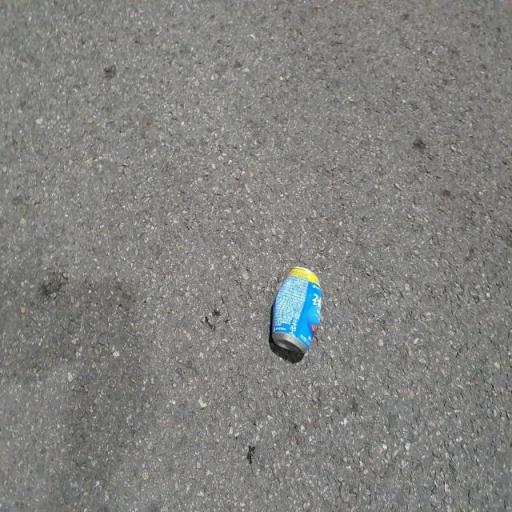metal: (262, 252, 332, 379)
